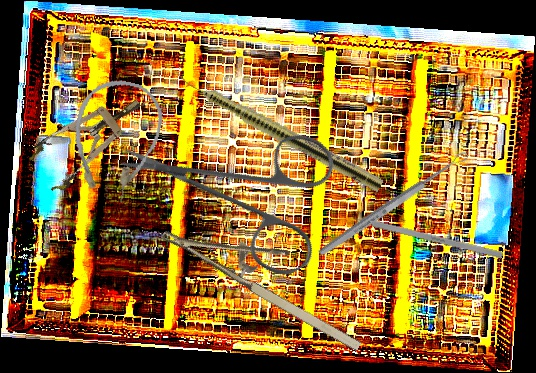Cannula: (61, 72, 169, 209)
Handpiece: (169, 66, 386, 194)
Hook Surgical: (340, 212, 504, 259)
Iris Scissors: (116, 63, 373, 321)
Needle Holder: (160, 189, 383, 359)
Speculum: (24, 81, 156, 197)
Surgical Spoon: (316, 149, 471, 259)
